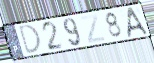2: (42, 20, 64, 51)
8: (105, 12, 124, 40)
9: (63, 16, 83, 48)
A: (127, 6, 150, 40)
D: (18, 23, 44, 57)
Z: (79, 12, 106, 44)
